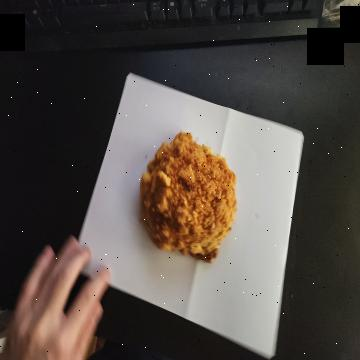soboru_bread: (138, 132, 236, 266)
